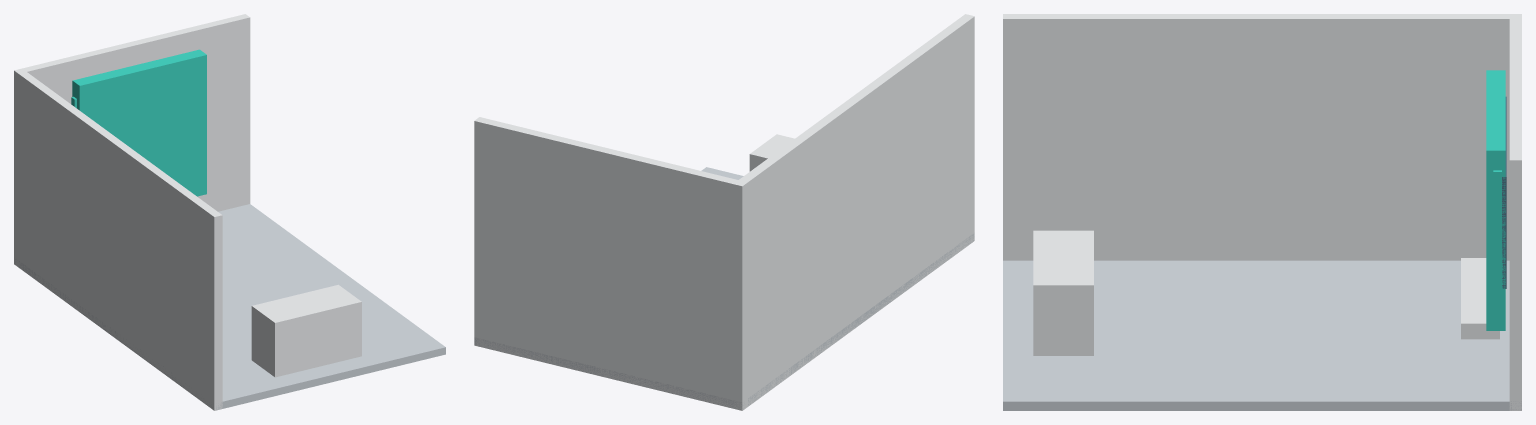
3 views of the same model, side by side, from view 1: azimuth 30°, elevation 25°; view 2: azimuth 150°, elevation 25°; view 3: azimuth 270°, elevation 25° (orthographic). The views are drawn at different scales.
Visible parts, largest first — view 1: Exhibition Booth Concept; view 2: Exhibition Booth Concept; view 3: Exhibition Booth Concept.
Part boxes in pixels (x1,y1,x2,y2): Exhibition Booth Concept: (14,14,445,410); Exhibition Booth Concept: (474,14,974,410); Exhibition Booth Concept: (1003,14,1521,410).
Bounding box in the file's own units: 4 × 3.2 × 6.
